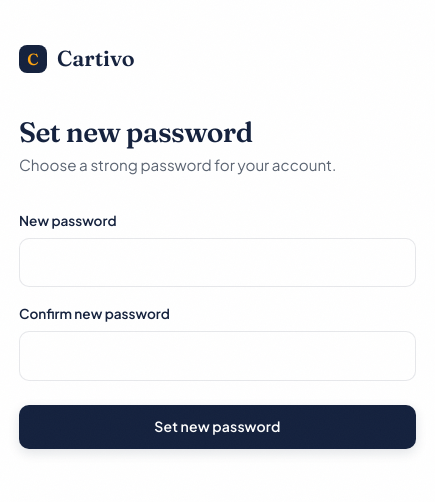
Test case: ResetPasswordPage › shows API error message
The width and height of the screenshot is (435, 502).
Type "StrongPass1" into the password field labelled "New password" at (217, 262), box 19,238 -> 416,287
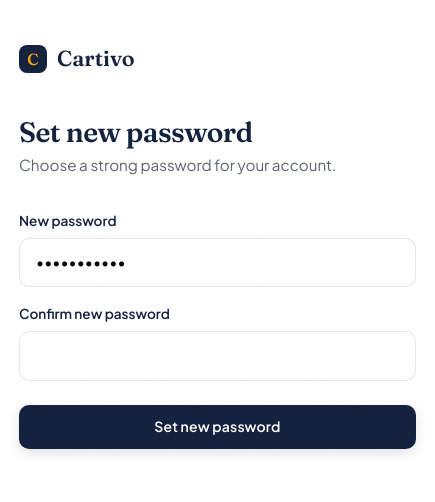
Type "StrongPass1" into the password field labelled "Confirm new password" at (217, 356), box 19,331 -> 416,380
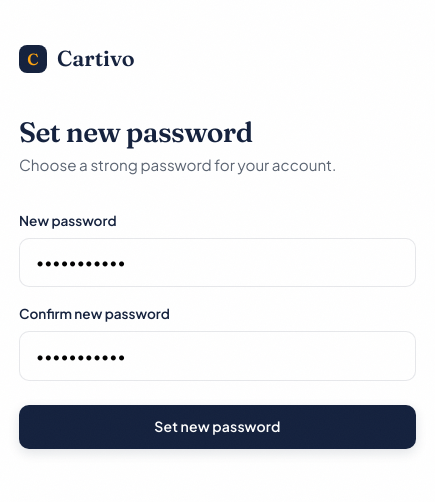
Click the button "Set new password" at (217, 427), box 19,404 -> 416,449
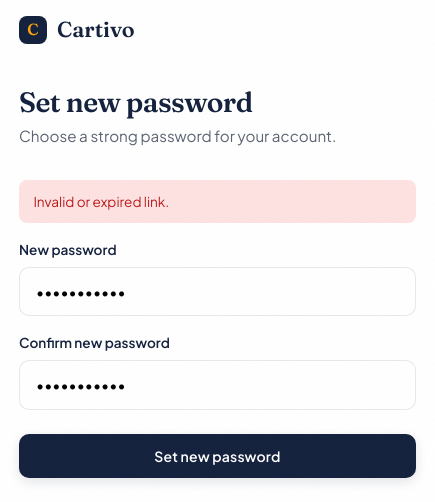
Result: the text "Invalid or expired link." is shown at 19,180 -> 416,223
